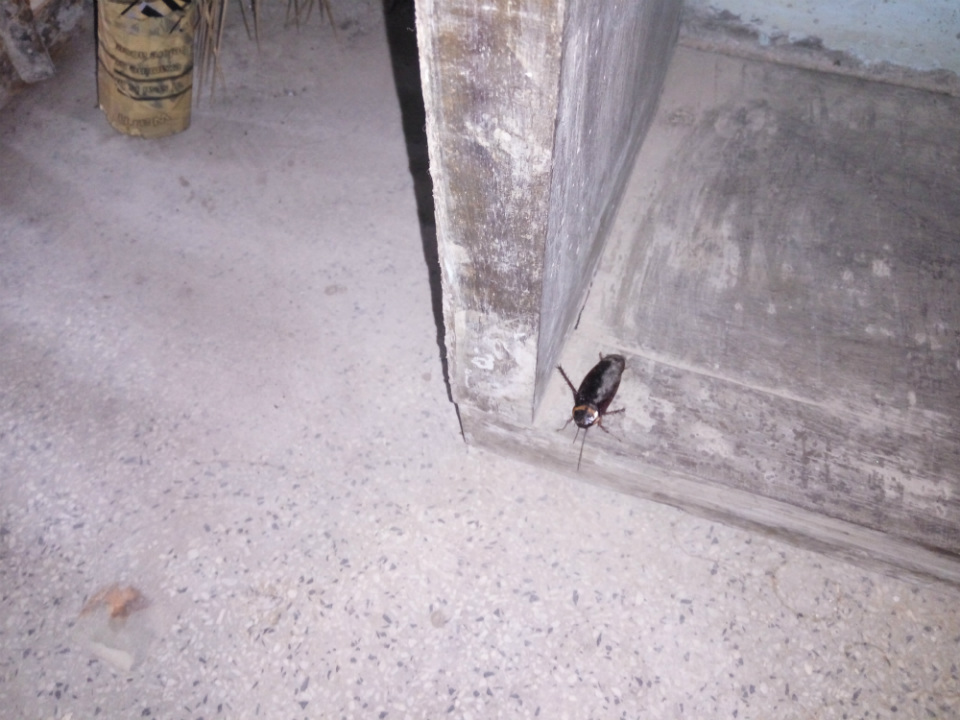cockroach: (497, 354, 697, 455)
